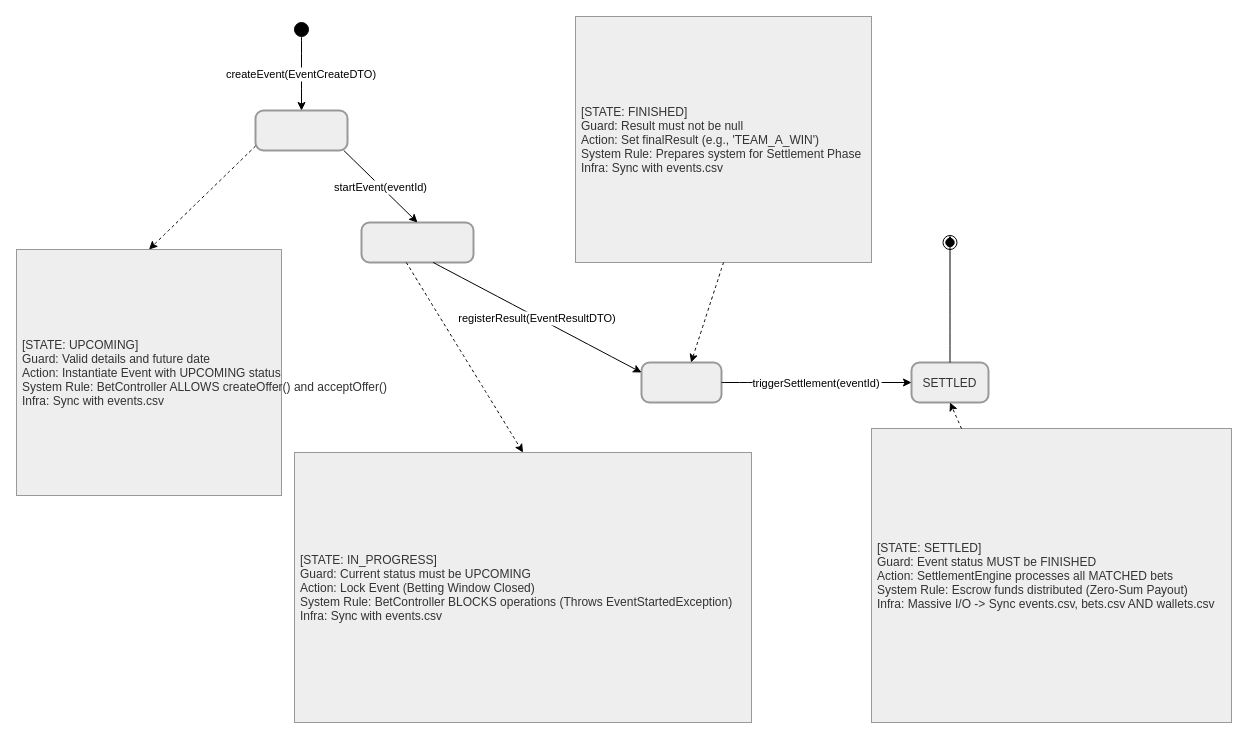
Some shapes in this 1248 by 739 pixel diagram are drawn without their labels. The centre of each missing label's shape, as x and y in pixels:
"FINISHED" belongs at [681,382].
"IN_PROGRESS" belongs at [417,242].
"UPCOMING" belongs at [301,130].
